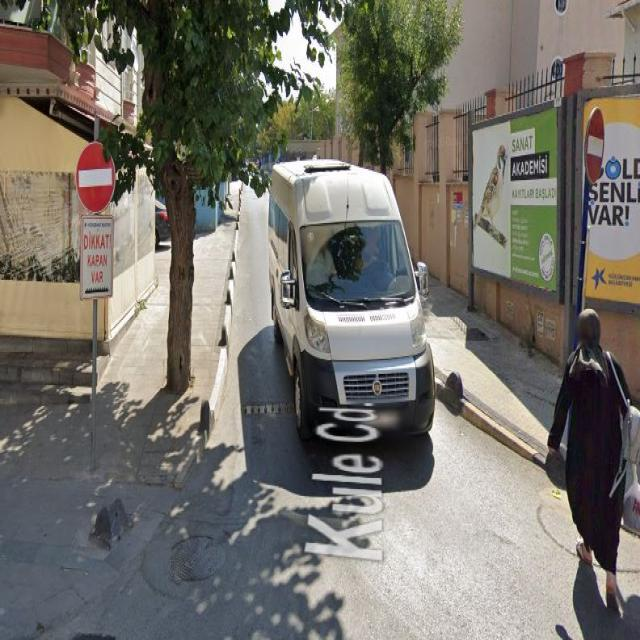girisyok: (75, 143, 114, 212), (585, 106, 604, 186)
